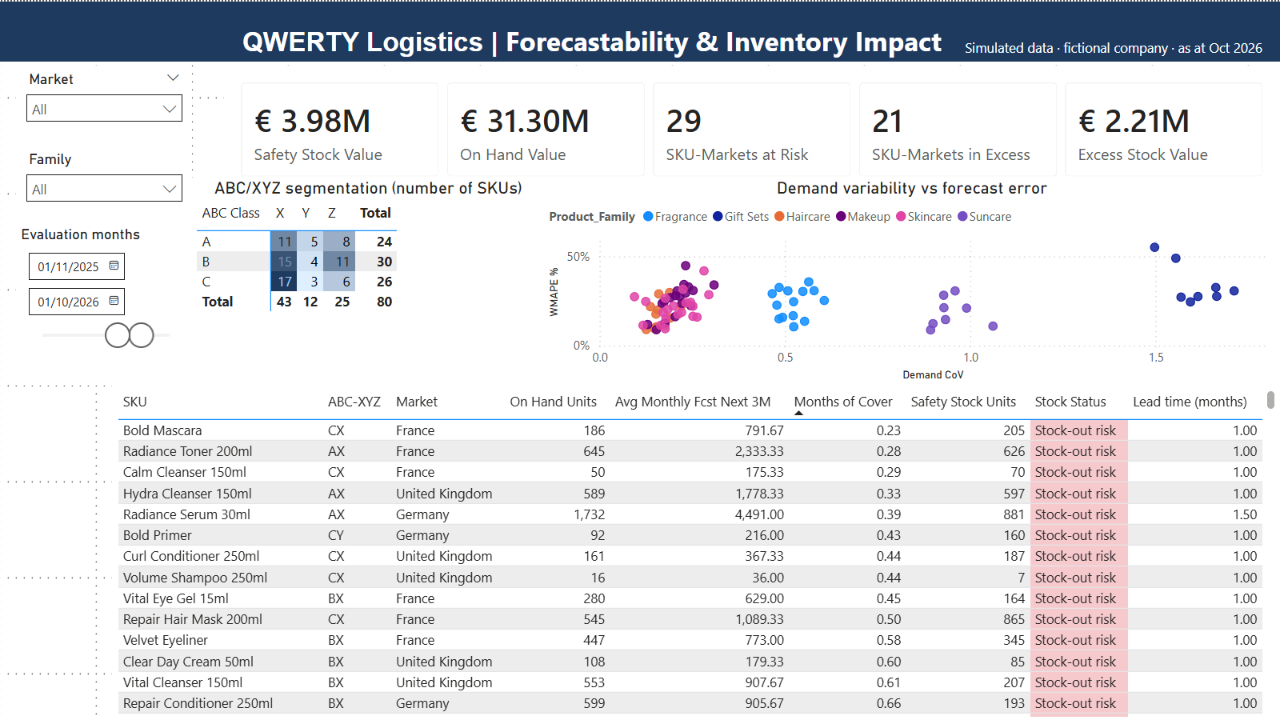

What the dashboard file says about the page in this screenshot:
{"tool":"powerbi","page":{"name":"Forecastability & Inventory Impact","canvas":[1280,720],"ordinal":3},"visuals":[{"type":"slicer","fields":{"Values":["dim_market.Market_Name"]},"box":[16,64,176,80],"z":0},{"type":"slicer","fields":{"Values":["dim_product.Product_Family"]},"box":[16,144,176,80],"z":1000},{"type":"slicer","title":"Evaluation months","fields":{"Values":["dim_date.Month_Start"]},"box":[16,224,176,160],"z":2000},{"type":"shape","box":[0,0,1280,60],"z":3000},{"type":"textbox","box":[16,16,1152,48],"z":4000},{"type":"cardVisual","fields":{"Data":["_Measures.Safety Stock Value","_Measures.On Hand Value","_Measures.SKU-Markets at Risk","_Measures.SKU-Markets in Excess","_Measures.Excess Stock Value"]},"box":[224,64,1056,128],"z":5000},{"type":"pivotTable","title":"ABC/XYZ segmentation (number of SKUs)","fields":{"Columns":["dim_product.XYZ Class"],"Rows":["dim_product.ABC Class"],"Values":["Count(dim_product.SKU_ID)"]},"box":[192,176,352,208],"z":6000},{"type":"scatterChart","title":"Demand variability vs forecast error","fields":{"Category":["dim_product.SKU_Name"],"Series":["dim_product.Product_Family"],"X":["Sum(dim_product.Demand CoV L12M)"],"Y":["_Measures.WMAPE %"]},"box":[544,176,736,208],"z":7000},{"type":"tableEx","fields":{"Values":["dim_product.SKU_Name","dim_product.ABC-XYZ","dim_market.Market_Name","_Measures.On Hand Units","_Measures.Avg Monthly Fcst Next 3M","_Measures.Months of Cover","_Measures.Safety Stock Units","_Measures.Stock Status","dim_product.Supplier_Lead_Time_Months"]},"box":[112,384,1168,336],"z":8000},{"type":"textbox","box":[960,32,320,32],"z":9000}]}

Visuals, with their boxes in screenshot pixels (x1, y1, x2, y2), scaled from the page's 1280x720 canvas onto the 1280x721 screenshot:
slicer - dim_market.Market_Name: <bbox>16, 64, 192, 144</bbox>
slicer - dim_product.Product_Family: <bbox>16, 144, 192, 224</bbox>
"Evaluation months" slicer: <bbox>16, 224, 192, 385</bbox>
shape: <bbox>0, 0, 1279, 60</bbox>
textbox: <bbox>16, 16, 1168, 64</bbox>
cardVisual - _Measures.Safety Stock Value x _Measures.On Hand Value: <bbox>224, 64, 1279, 192</bbox>
"ABC/XYZ segmentation (number of SKUs)" pivotTable: <bbox>192, 176, 544, 385</bbox>
"Demand variability vs forecast error" scatterChart: <bbox>544, 176, 1279, 385</bbox>
tableEx - dim_product.SKU_Name x dim_product.ABC-XYZ: <bbox>112, 385, 1279, 720</bbox>
textbox: <bbox>960, 32, 1279, 64</bbox>
